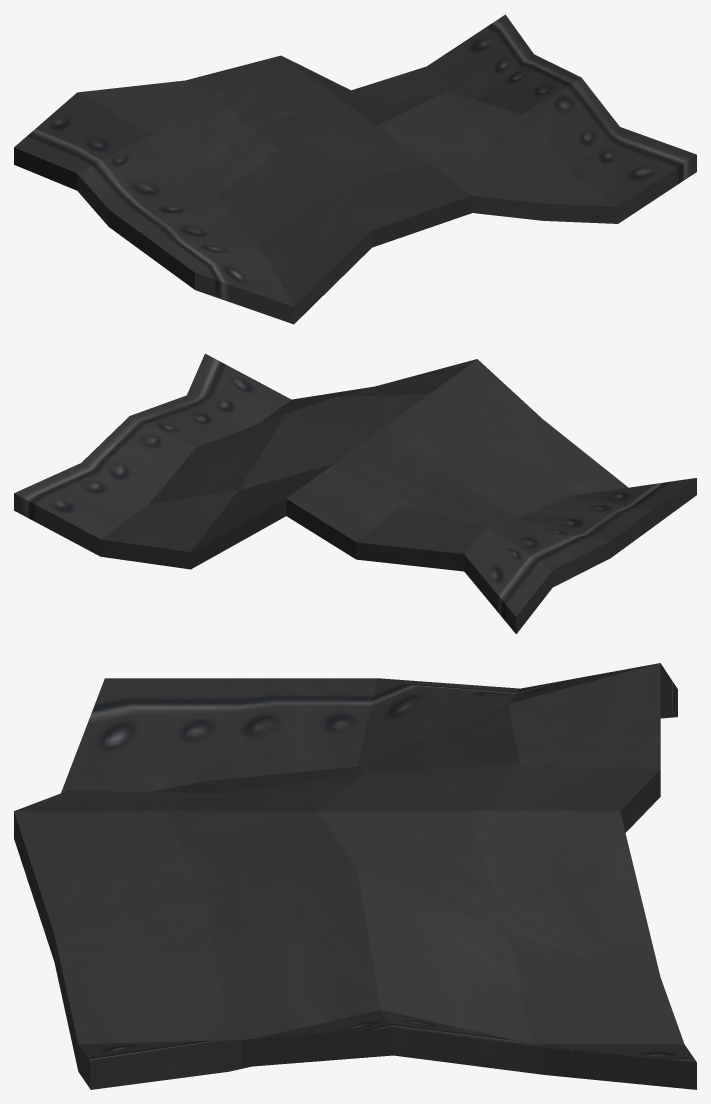
Rendered from platform01.fbx.
3 views of the same model, one above another, from view 1: azimuth 30°, elevation 25°; view 2: azimuth 150°, elevation 25°; view 3: azimuth 270°, elevation 25° (orthographic). The views are drawn at different scales.
Parts seen in each view (by area): view 1: Cube; view 2: Cube; view 3: Cube.
Part boxes in pixels (x1=…): Cube: x1=14, y1=14, x2=696, y2=324; Cube: x1=14, y1=353, x2=696, y2=634; Cube: x1=14, y1=663, x2=696, y2=1089.
Bounding box in the file's own units: 600 × 118 × 451.
1 material, 1 textured.
